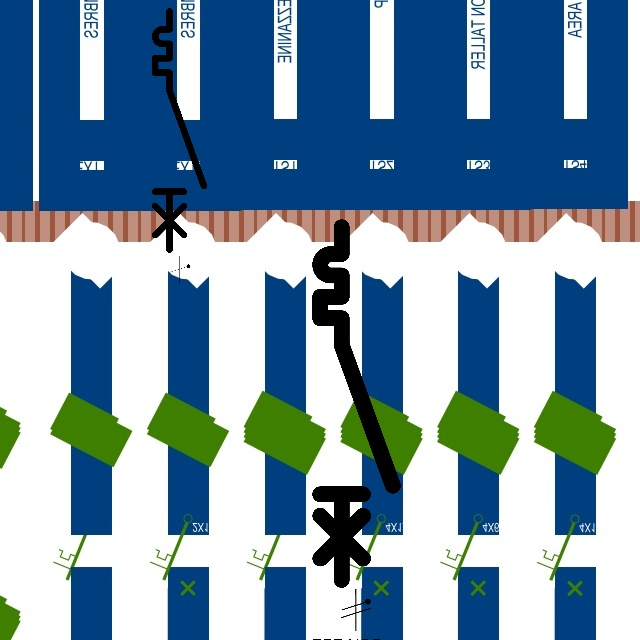interruptor_termomagnetico: (311, 218, 402, 589), (149, 5, 210, 256)
